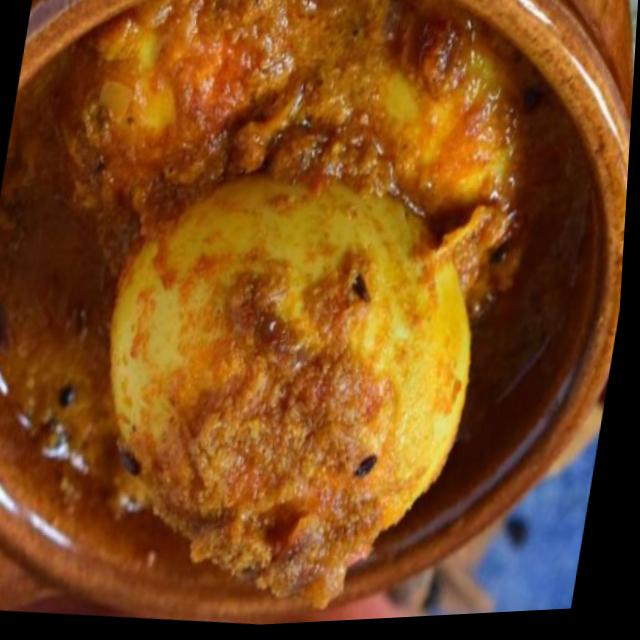EGG: (0, 8, 636, 610)
